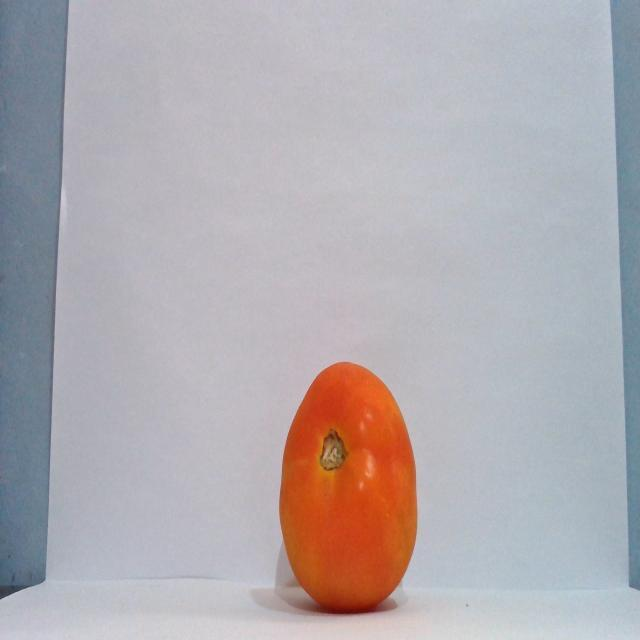Red: (277, 359, 418, 613)
